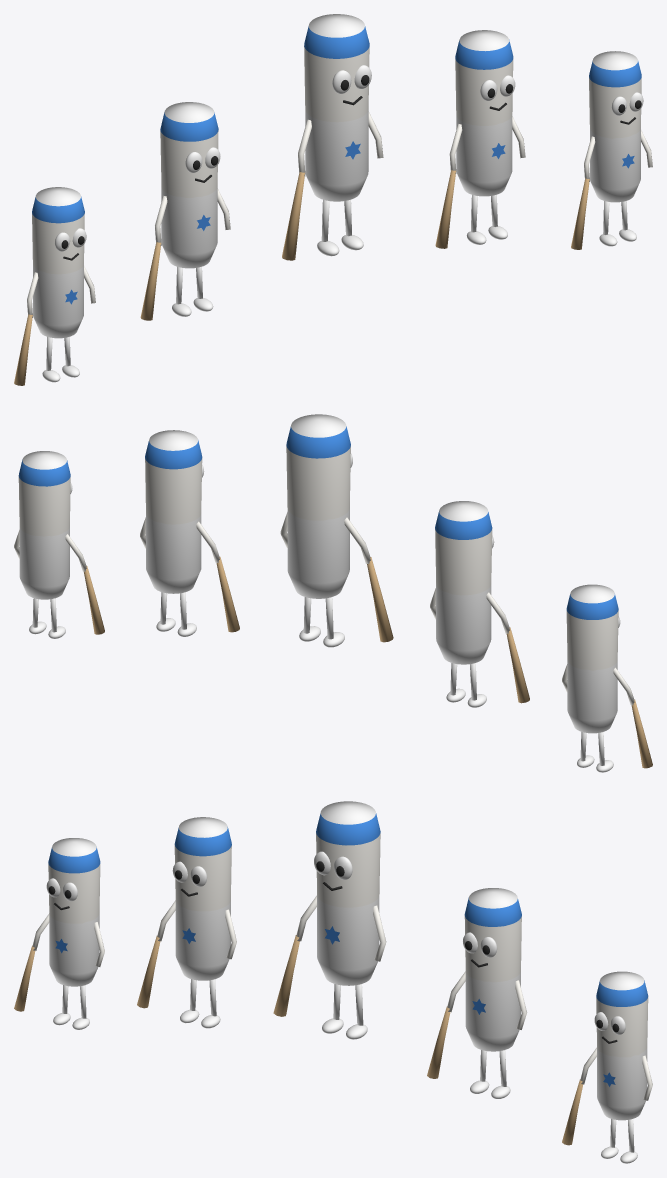
File: BuddySquad.glb
3 renders of one model, top to bottom at view 1: azimuth 30°, elevation 25°; view 2: azimuth 150°, elevation 25°; view 3: azimuth 330°, elevation 25°, orthographic.
Visible parts, largest first — view 1: BuddySquad; view 2: BuddySquad; view 3: BuddySquad.
Boxes of the visible parts, left/top/right/bottom form: BuddySquad: left=14, top=14, right=652, bottom=385; BuddySquad: left=14, top=414, right=652, bottom=772; BuddySquad: left=14, top=801, right=652, bottom=1163.
Size of the model in its own units: 3.92 by 1.68 by 0.3782.
